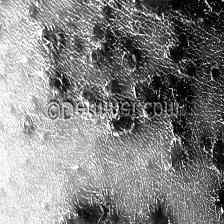Toxin: (79, 196, 111, 224), (166, 34, 188, 64)
